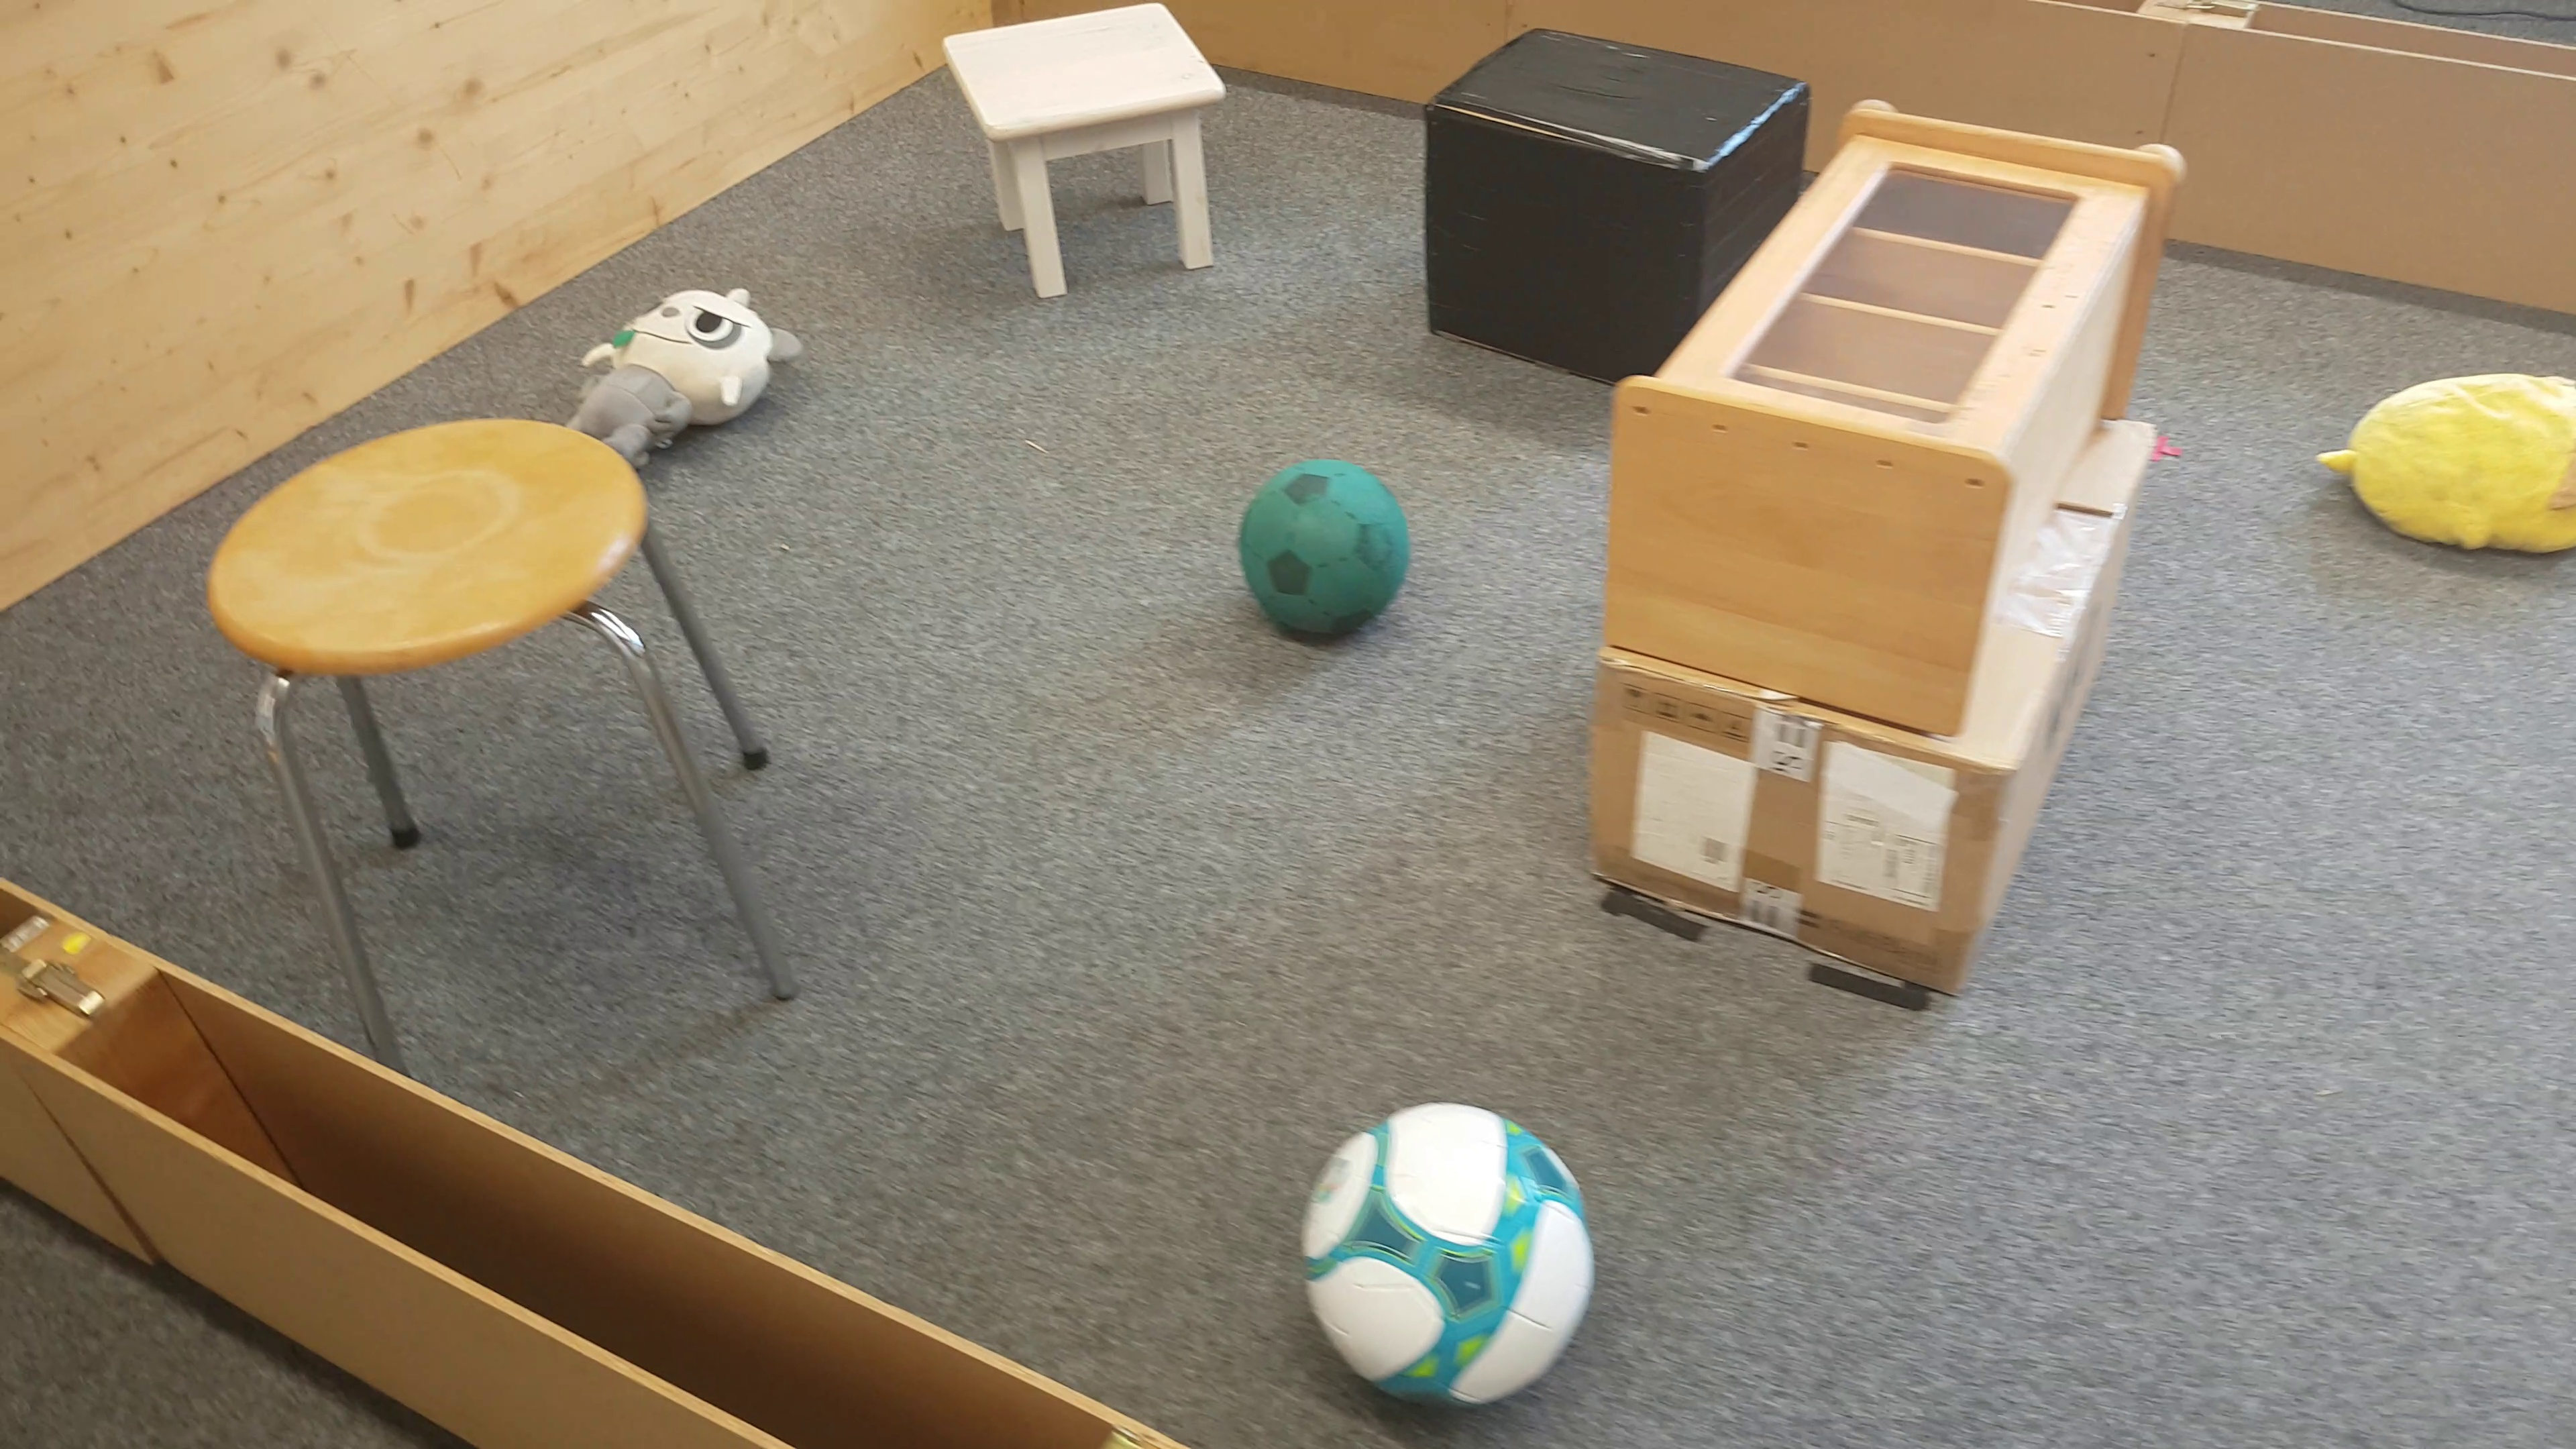grasp: (2332, 370, 2576, 554), (571, 258, 801, 441)
kick: (1297, 1100, 1596, 1408), (1238, 456, 1408, 640)
push: (1421, 30, 1665, 370)
